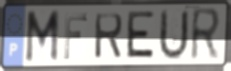E: (123, 10, 156, 62)
F: (62, 12, 89, 61)
M: (24, 9, 61, 66)
R: (189, 6, 223, 64), (93, 11, 125, 61)
U: (157, 8, 190, 63)
